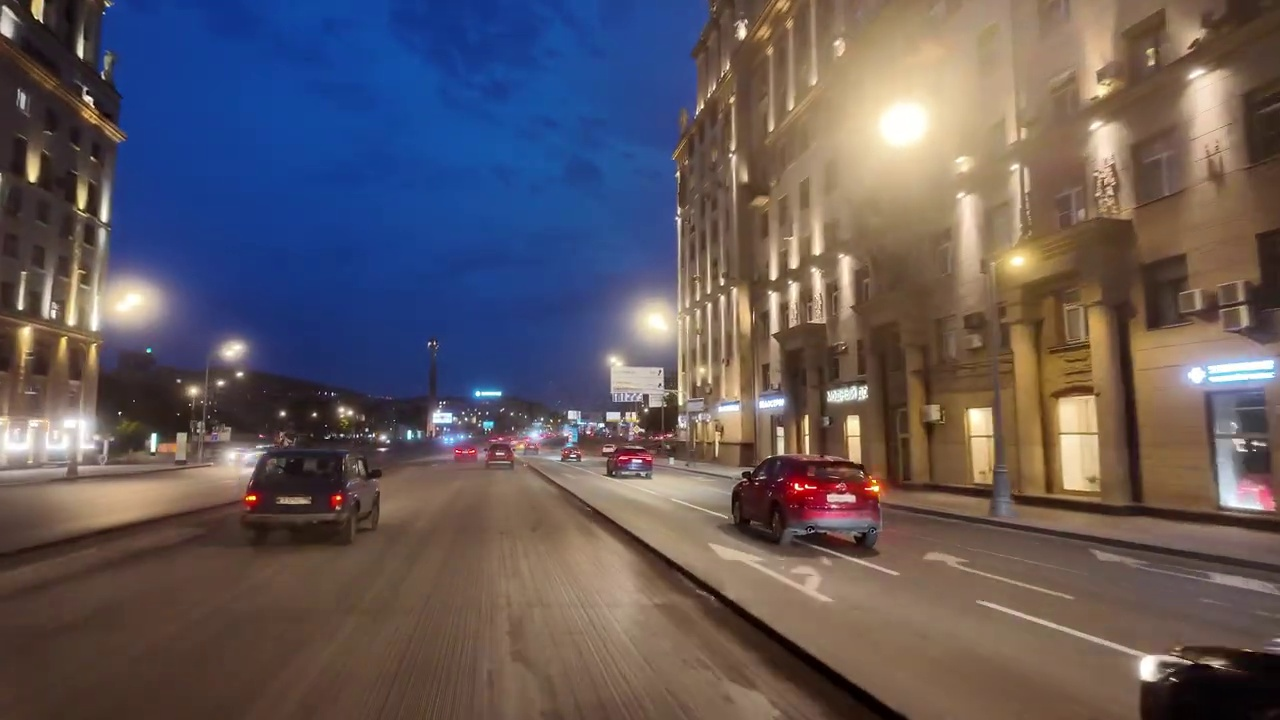acesa: (866, 92, 938, 159), (108, 286, 152, 323), (1000, 247, 1040, 281), (639, 304, 675, 341), (217, 337, 247, 364)
